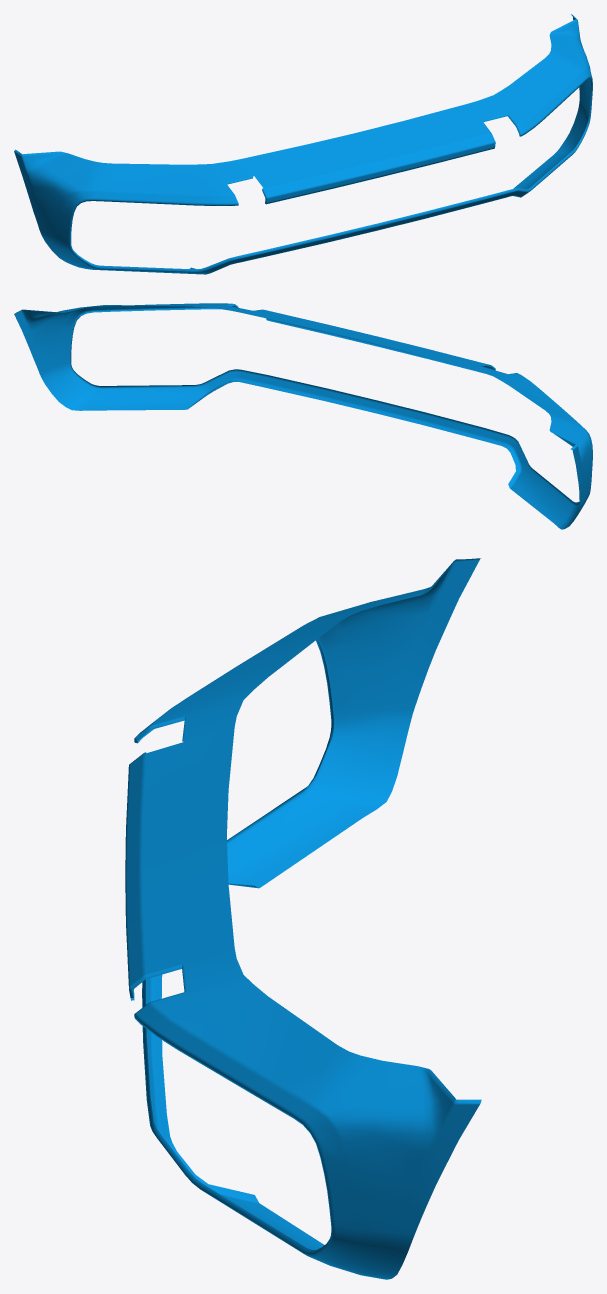
The model's file is передний_бампер.glb.
3 renders of one model, top to bottom at view 1: azimuth 30°, elevation 25°; view 2: azimuth 150°, elevation 25°; view 3: azimuth 270°, elevation 25°, orthographic. The views are drawn at different scales.
Visible parts, largest first — view 1: M:SM_RearKit_0000_001_SM_RearKit_0000_MAT_CarPaint_004_M:MA.; view 2: M:SM_RearKit_0000_001_SM_RearKit_0000_MAT_CarPaint_004_M:MA.; view 3: M:SM_RearKit_0000_001_SM_RearKit_0000_MAT_CarPaint_004_M:MA..
Part boxes in pixels (x1,y1,x2,y2): M:SM_RearKit_0000_001_SM_RearKit_0000_MAT_CarPaint_004_M:MA.: [14, 14, 592, 274]; M:SM_RearKit_0000_001_SM_RearKit_0000_MAT_CarPaint_004_M:MA.: [14, 303, 592, 529]; M:SM_RearKit_0000_001_SM_RearKit_0000_MAT_CarPaint_004_M:MA.: [125, 558, 481, 1279].
Size of the model in its own units: 1.93 by 0.3587 by 0.5347.
